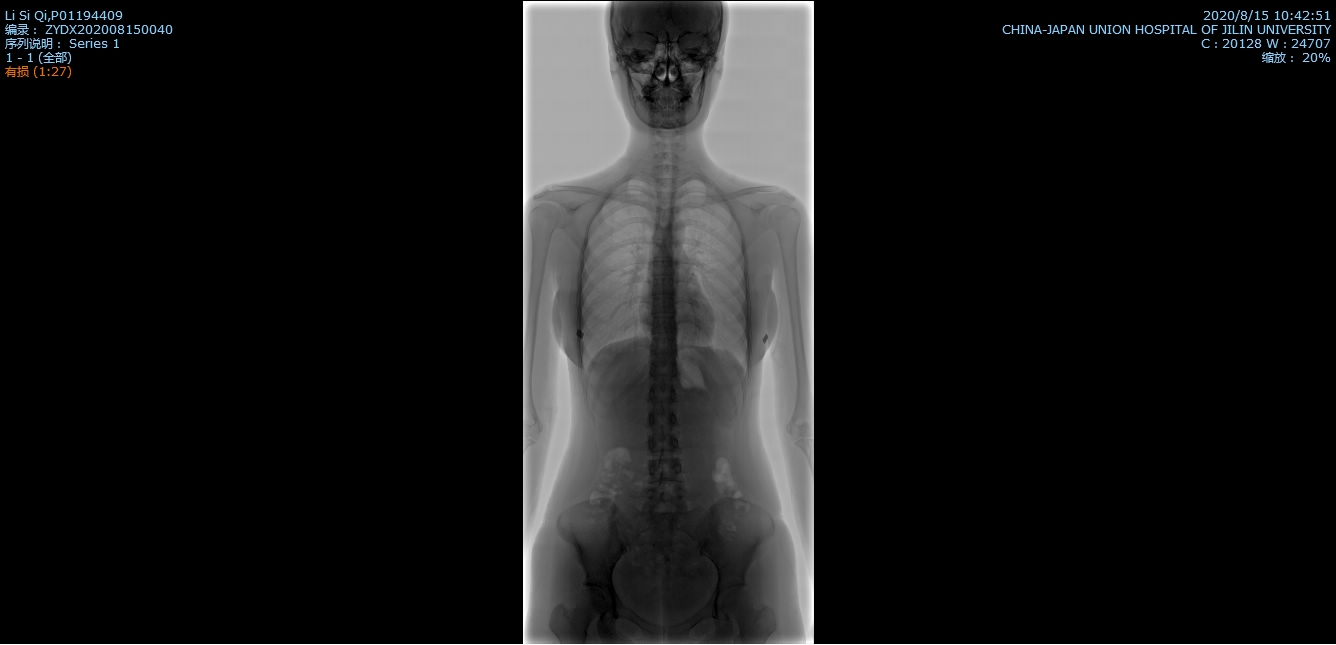Bone: (648, 492, 686, 514), (647, 460, 681, 481), (648, 433, 680, 452), (649, 384, 676, 403), (648, 410, 677, 427), (651, 338, 676, 355), (650, 359, 676, 375), (653, 297, 676, 313), (652, 317, 676, 332), (652, 278, 675, 293), (652, 259, 673, 274)
